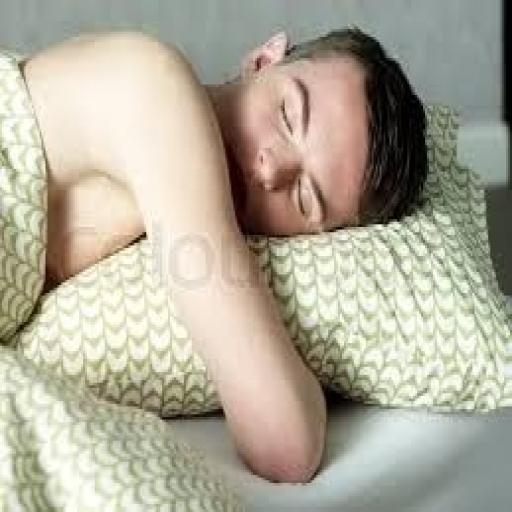sleeping: (0, 21, 431, 486)
